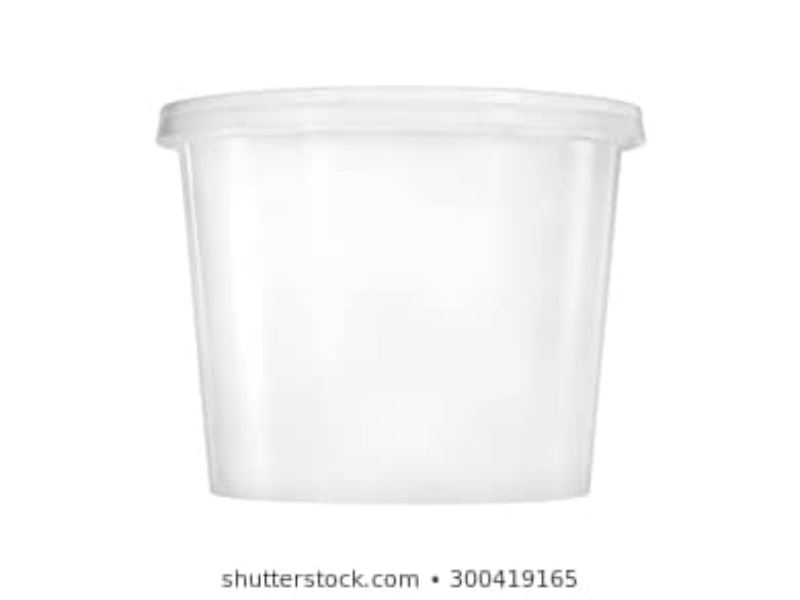plastic-container: (151, 80, 651, 508)
